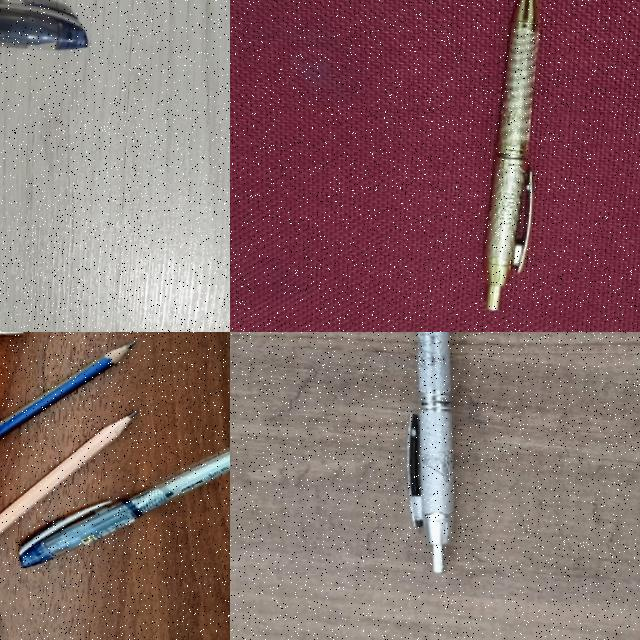pen: (20, 410, 230, 586), (0, 0, 87, 49)
pencil: (0, 412, 134, 534), (0, 344, 131, 437)
signature pen: (485, 0, 539, 309), (406, 332, 454, 573)
